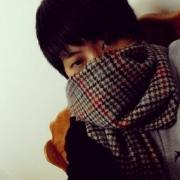OK: (67, 30, 152, 107)
